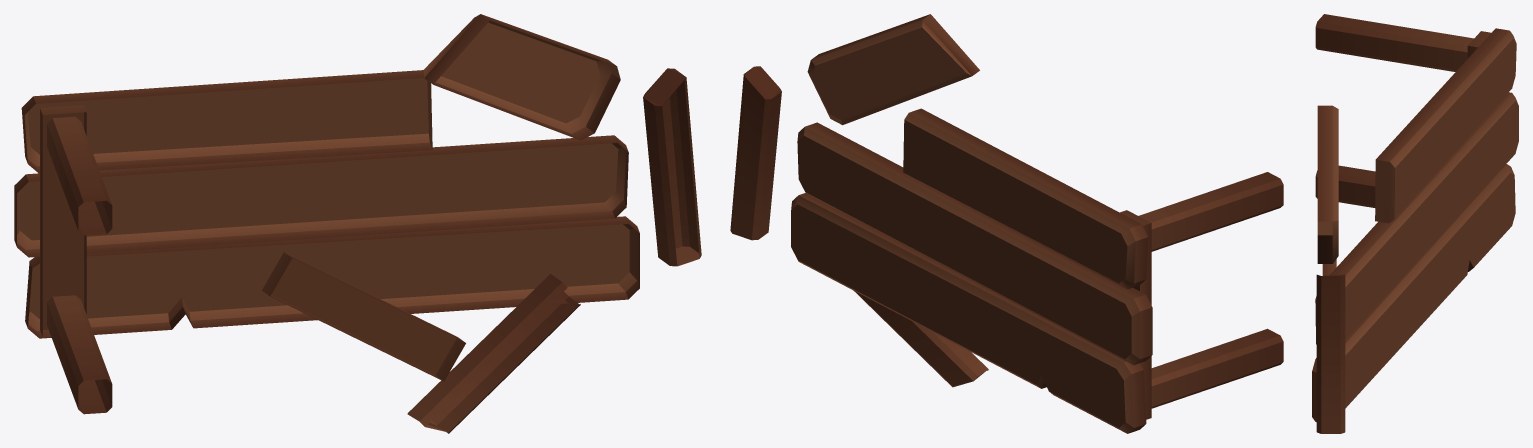
The model's file is Table 02.FBX.
The picture shows the model from 3 angles, left to right: view 1: azimuth 30°, elevation 25°; view 2: azimuth 150°, elevation 25°; view 3: azimuth 270°, elevation 25°; orthographic projection. The views are drawn at different scales.
Parts seen in each view (by area): view 1: Table 02; view 2: Table 02; view 3: Table 02.
Boxes of the visible parts, x1,y1,x2,y2 form: Table 02: (14,14,701,433); Table 02: (730,14,1283,433); Table 02: (1312,14,1518,433).
Bounding box in the file's own units: 235 × 147 × 81.41.
